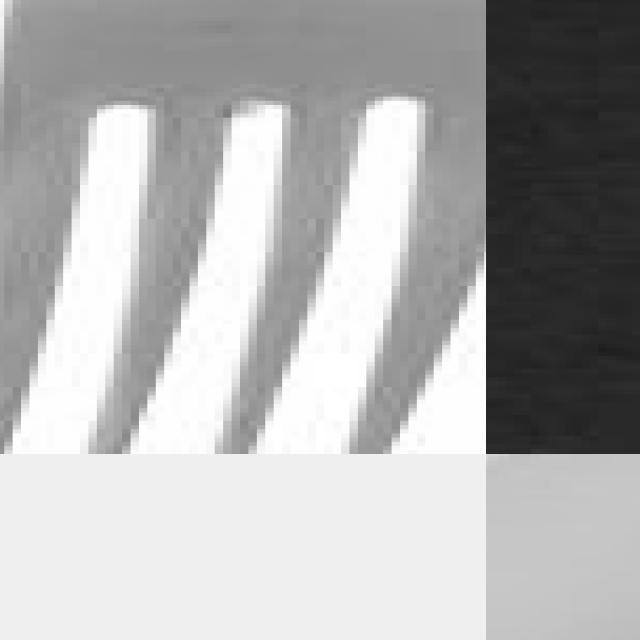forks: (0, 0, 486, 454)
spoons: (486, 454, 640, 640)
